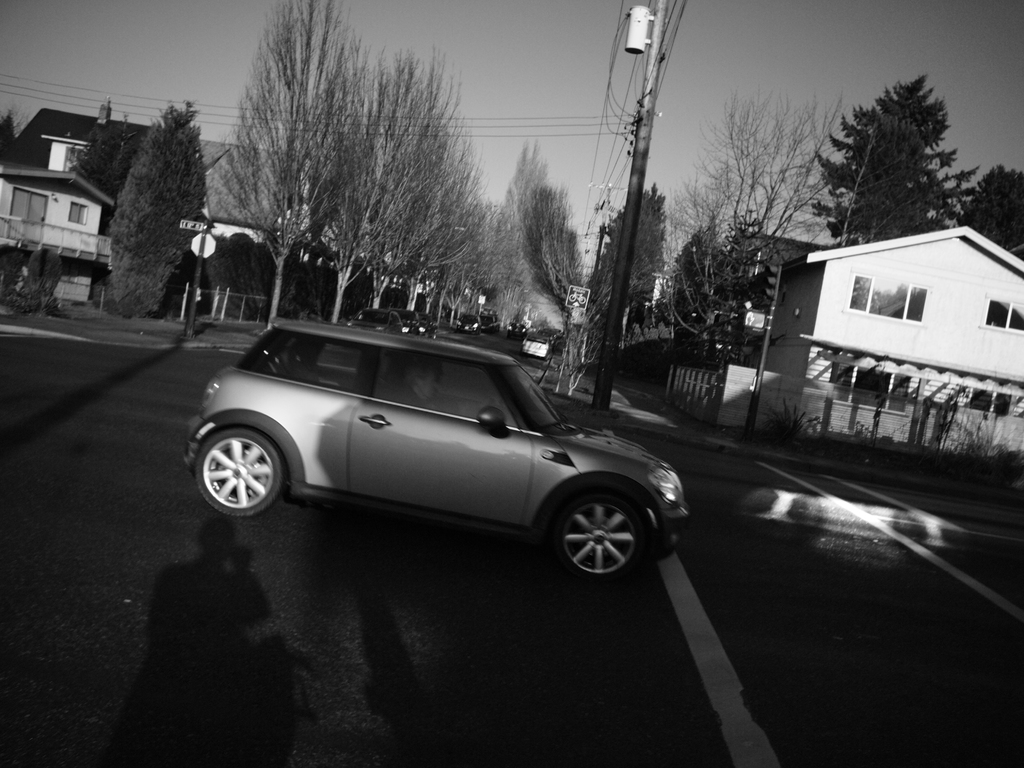mobil: (169, 319, 689, 580)
